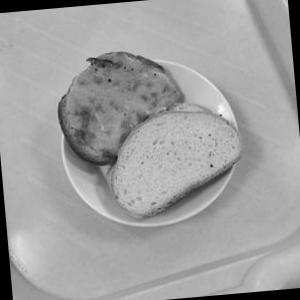bread: (97, 89, 247, 227)
cheese_sandwich: (28, 32, 190, 168)
